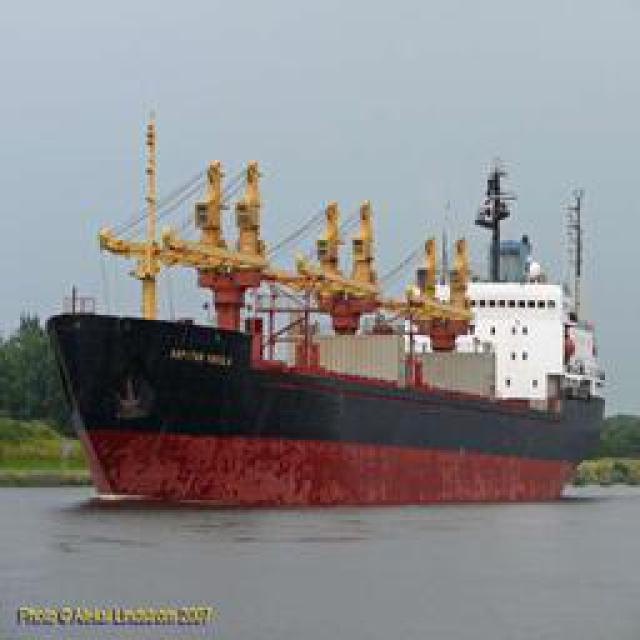Ship: (54, 128, 607, 503)
